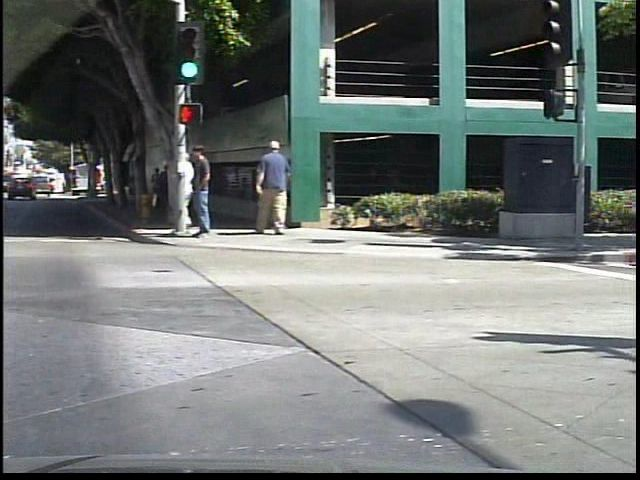person: (254, 138, 307, 236), (185, 139, 224, 245), (178, 148, 204, 231), (165, 164, 179, 220)
